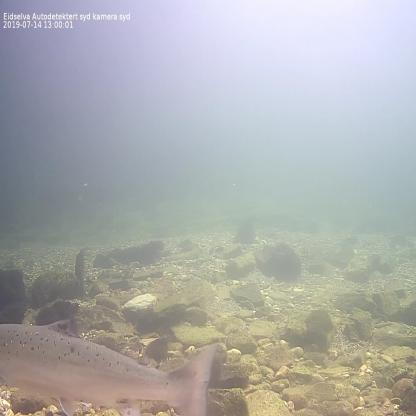salmon: (0, 315, 221, 415)
